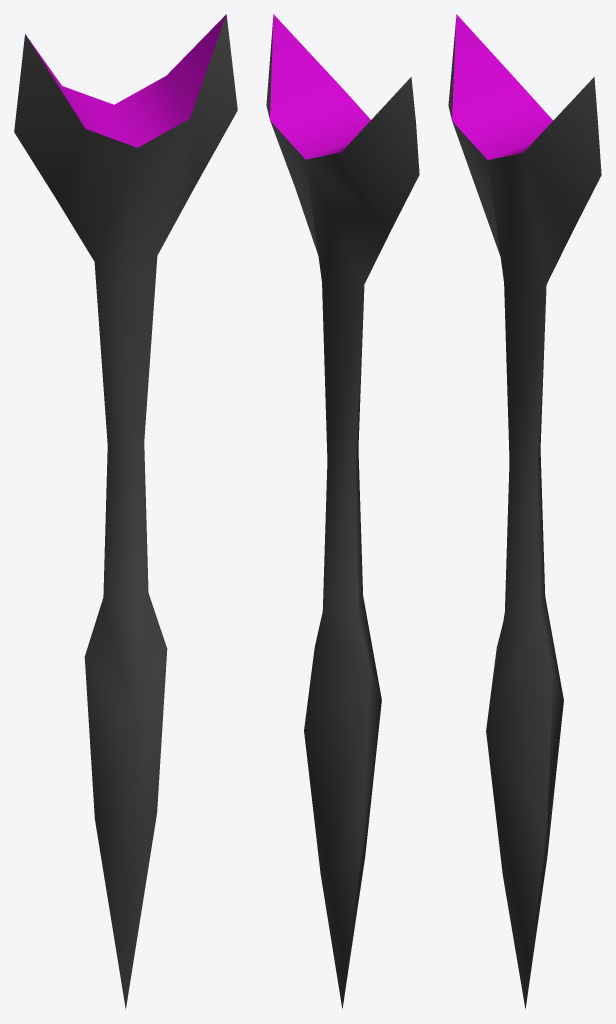
Rendered from Staff_01.FBX.
3 views of the same model, side by side, from view 1: azimuth 30°, elevation 25°; view 2: azimuth 150°, elevation 25°; view 3: azimuth 330°, elevation 25° (orthographic). The views are drawn at different scales.
Parts seen in each view (by area): view 1: Staff01; view 2: Staff01; view 3: Staff01.
Part boxes in pixels (x1=…): Staff01: x1=14, y1=14, x2=237, y2=1009; Staff01: x1=266, y1=14, x2=419, y2=1009; Staff01: x1=448, y1=14, x2=601, y2=1009.
Bounding box in the file's own units: 13.22 × 65.54 × 7.91.
